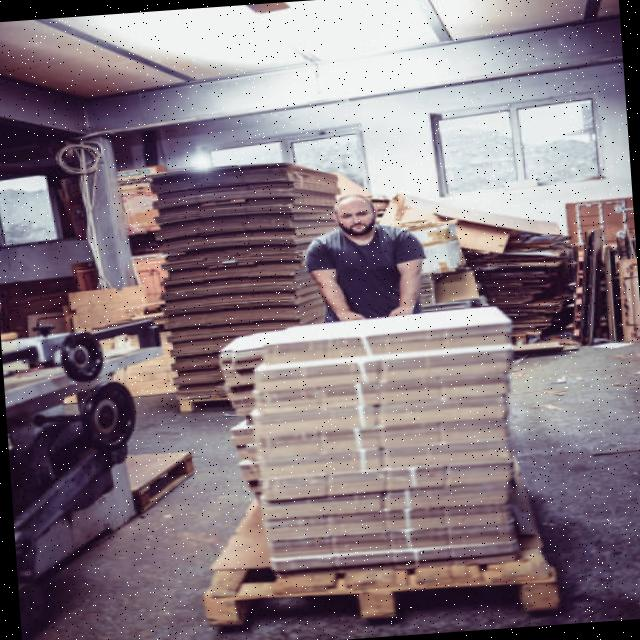Wooden-Pallets: (204, 558, 554, 636)
